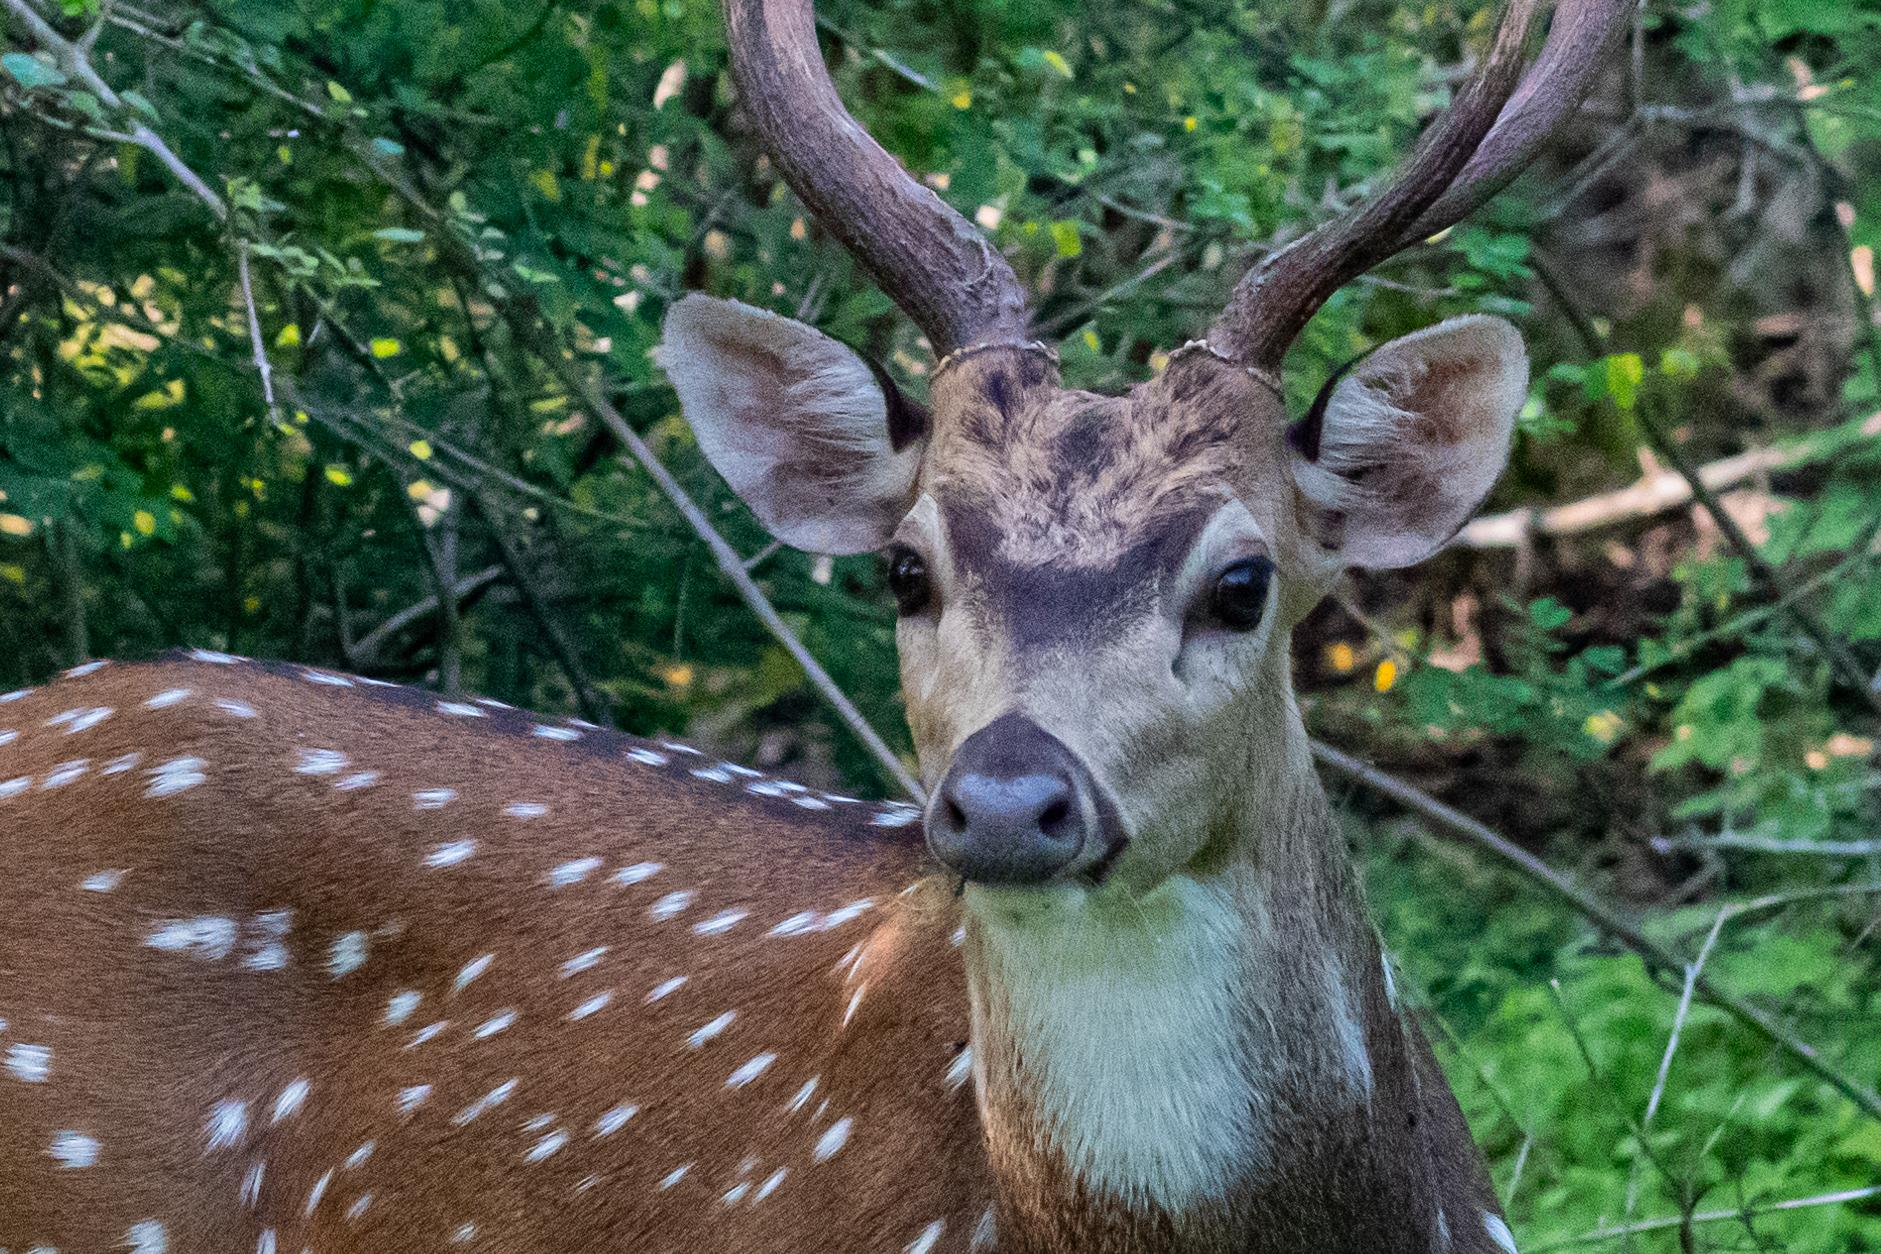Deer: (0, 0, 1629, 1250)
